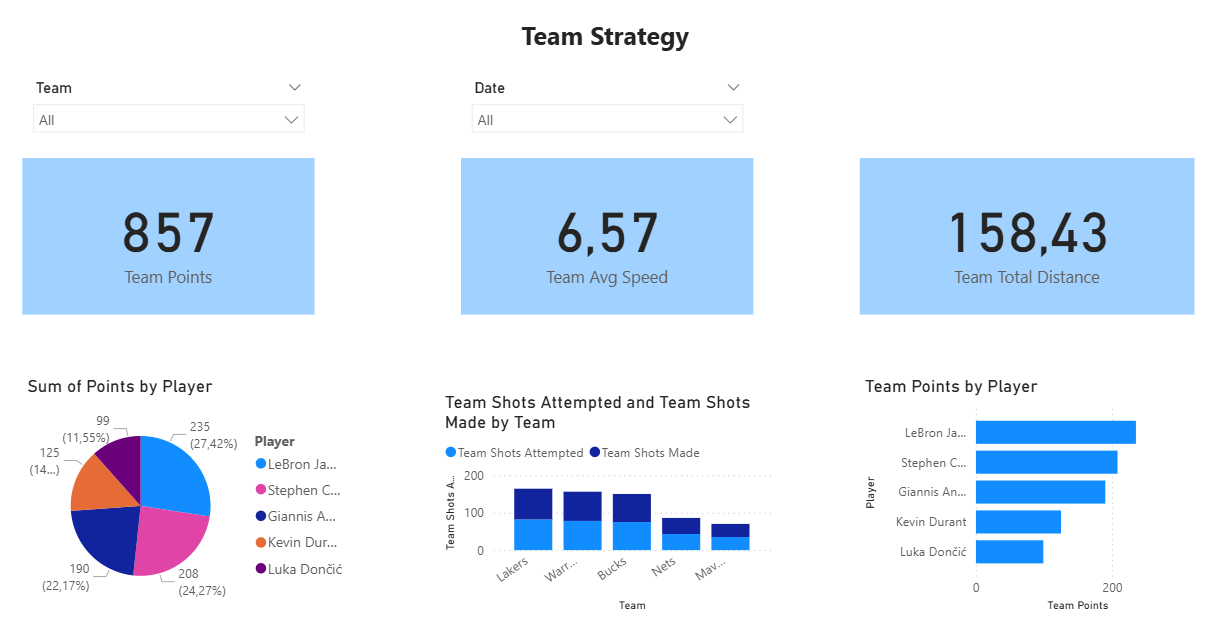

The dashboard page shown, as its layout file describes it:
{"tool":"powerbi","page":{"name":"Page 2","canvas":[1280,720],"ordinal":1},"visuals":[{"type":"slicer","fields":{"Values":["Sheet1 (2).Team"]},"box":[78,82.9,281,70.8],"z":1000},{"type":"slicer","fields":{"Values":["Sheet1 (2).Date"]},"box":[499.5,82.9,281,57.6],"z":2000},{"type":"pieChart","fields":{"Category":["Sheet1 (2).Player"],"Y":["Sum(Sheet1 (2).Points)"]},"box":[78,372.2,321.8,231.7],"z":3000},{"type":"card","fields":{"Values":["Sheet1 (2).Team Points"]},"box":[78,163.3,281,150.1],"z":4000},{"type":"card","fields":{"Values":["Sheet1 (2).Team Avg Speed"]},"box":[499.5,163.3,281,150.1],"z":5000},{"type":"card","fields":{"Values":["Sheet1.Team Total Distance"]},"box":[882.6,163.3,321.8,150.1],"z":6000},{"type":"textbox","box":[552.3,24,175.3,51.6],"z":7000},{"type":"columnChart","fields":{"Y":["Sheet1 (2).Team Shots Attempted","Sheet1 (2).Team Shots Made"],"Category":["Sheet1 (2).Team"]},"box":[479.1,387.8,323,216.1],"z":8000},{"type":"clusteredBarChart","fields":{"Category":["Sheet1 (2).Player"],"Y":["Sheet1 (2).Team Points"]},"box":[882.6,372.2,323,231.7],"z":8001}]}

Visuals, with their boxes on the page's 1280x720 design canvas (x1, y1, x2, y2). These are canvas units, not pixel positions in the 1220x643 screenshot, which may show the page scaled, cropped or inside an application window:
slicer - Sheet1 (2).Team: 78 83 359 154
slicer - Sheet1 (2).Date: 500 83 780 140
pieChart - Sheet1 (2).Player x Sum(Sheet1 (2).Points): 78 372 400 604
card - Sheet1 (2).Team Points: 78 163 359 313
card - Sheet1 (2).Team Avg Speed: 500 163 780 313
card - Sheet1.Team Total Distance: 883 163 1204 313
textbox: 552 24 728 76
columnChart - Sheet1 (2).Team Shots Attempted x Sheet1 (2).Team Shots Made: 479 388 802 604
clusteredBarChart - Sheet1 (2).Player x Sheet1 (2).Team Points: 883 372 1206 604
